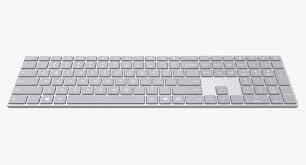keyboard: (6, 42, 301, 128)
